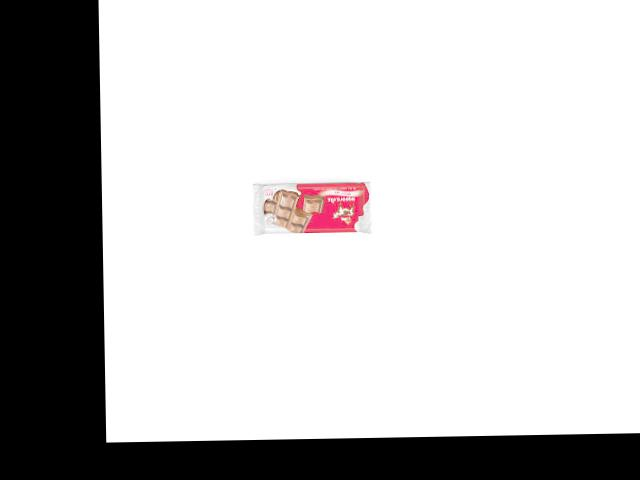chocolate: (249, 181, 372, 236)
